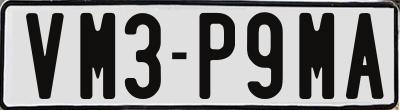3: (123, 10, 163, 101)
9: (245, 10, 286, 101)
A: (344, 12, 388, 99)
M: (296, 10, 337, 100), (80, 13, 117, 101)
P: (198, 11, 238, 103)
V: (25, 10, 67, 101)
